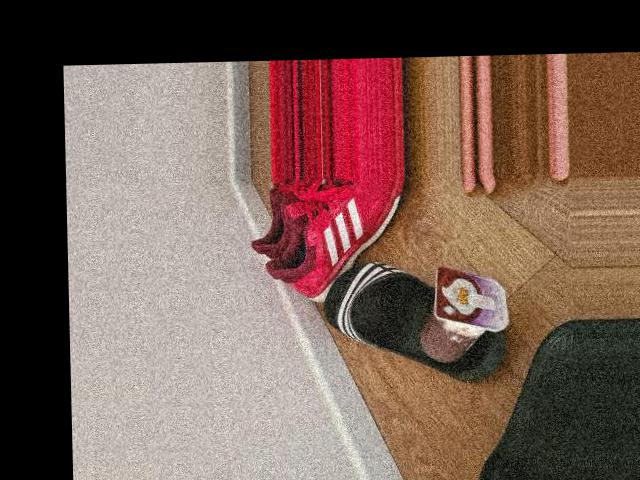milky: (410, 261, 510, 370)
